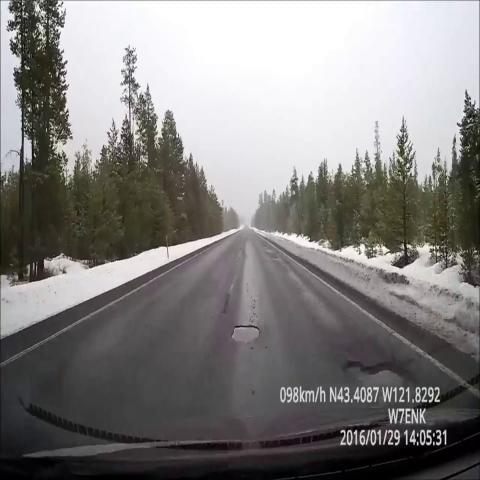pothole: (332, 342, 414, 406), (225, 312, 265, 352)
